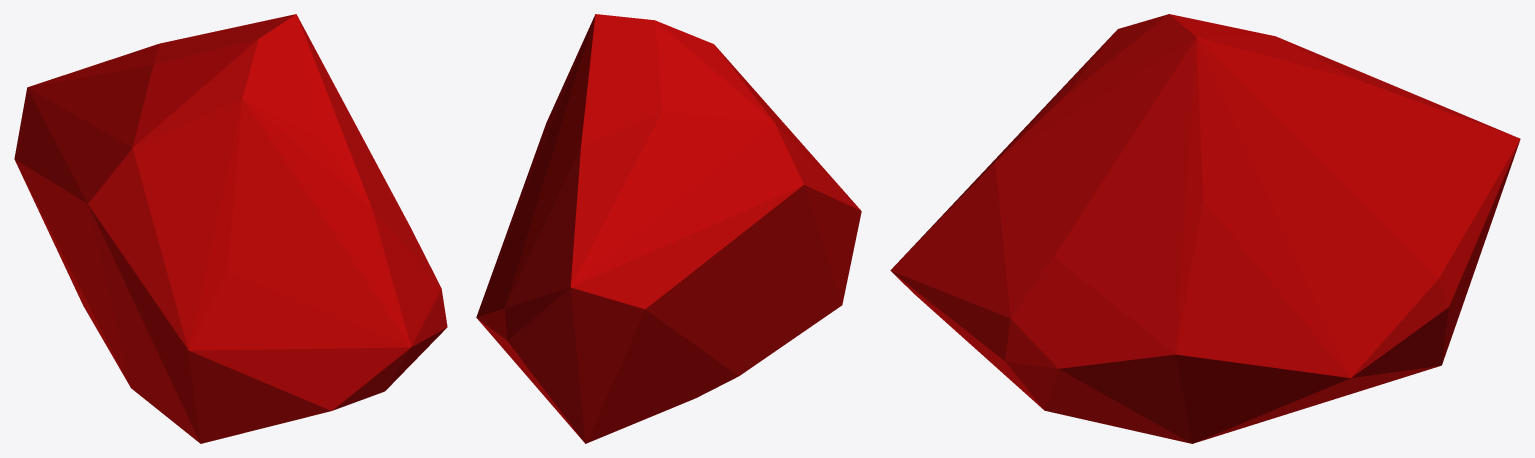
Rendered from rock_c.glb.
The picture shows the model from 3 angles, left to right: view 1: azimuth 30°, elevation 25°; view 2: azimuth 150°, elevation 25°; view 3: azimuth 270°, elevation 25°; orthographic projection. The views are drawn at different scales.
Visible parts, largest first — view 1: rock_c; view 2: rock_c; view 3: rock_c.
Part boxes in pixels (x1,y1,x2,y2): rock_c: [14, 14, 447, 443]; rock_c: [476, 14, 861, 443]; rock_c: [890, 14, 1520, 443].
Bounding box in the file's own units: 1.7 × 1.88 × 2.74.
